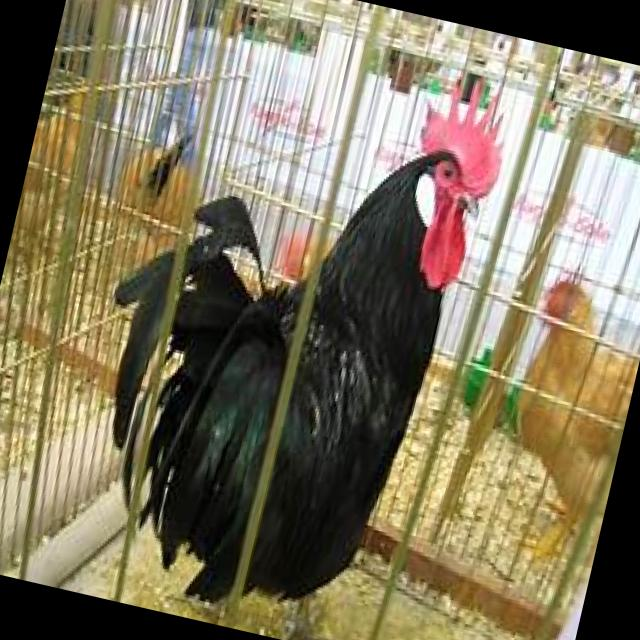chicken: (73, 37, 550, 624)
